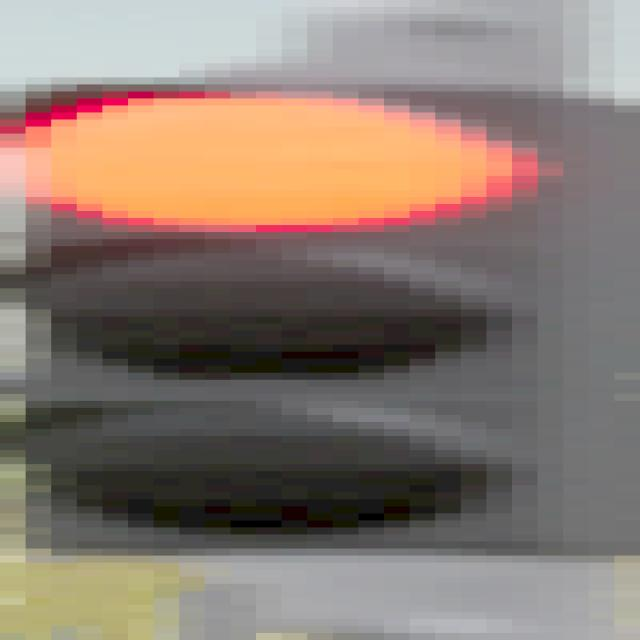red_light: (0, 82, 632, 564)
